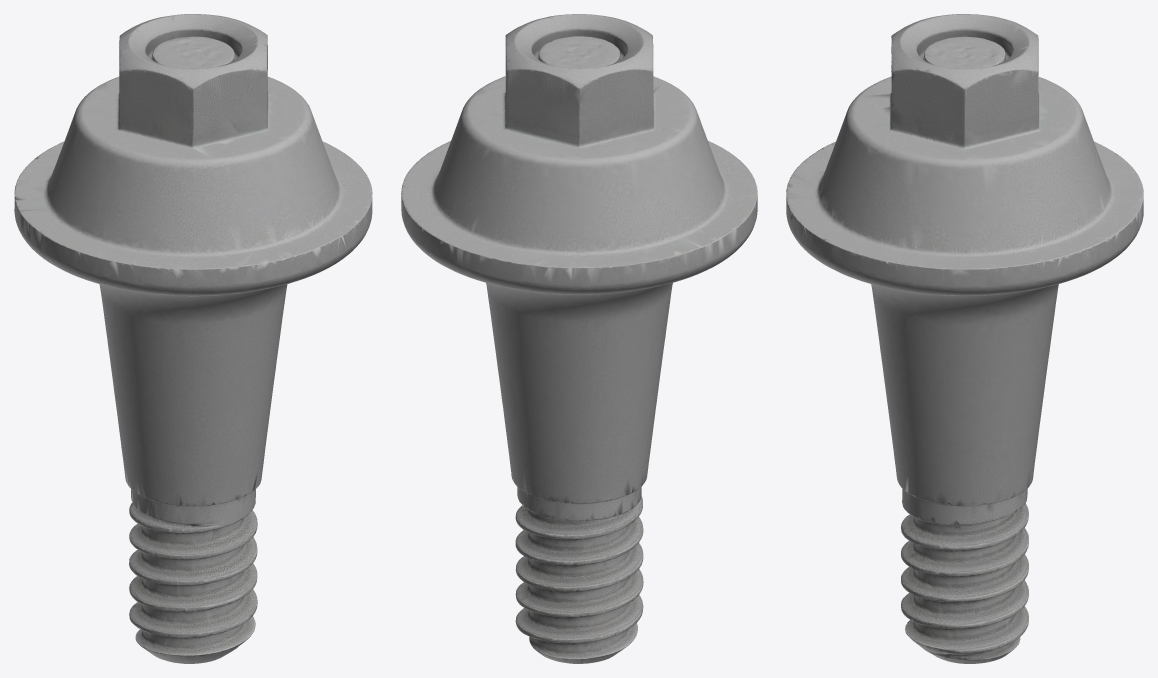
Rendered from mini-pilar-reto-fast.glb.
3 renders of one model, left to right at view 1: azimuth 30°, elevation 25°; view 2: azimuth 150°, elevation 25°; view 3: azimuth 270°, elevation 25°, orthographic.
Visible parts, largest first — view 1: mesh_node; view 2: mesh_node; view 3: mesh_node.
Part boxes in pixels (<box>): mesh_node: <box>14,14,372,663</box>; mesh_node: <box>401,14,757,663</box>; mesh_node: <box>786,14,1143,663</box>.
Size of the model in its own units: 1.02 by 1.9 by 1.02.
1 material, 1 textured.
